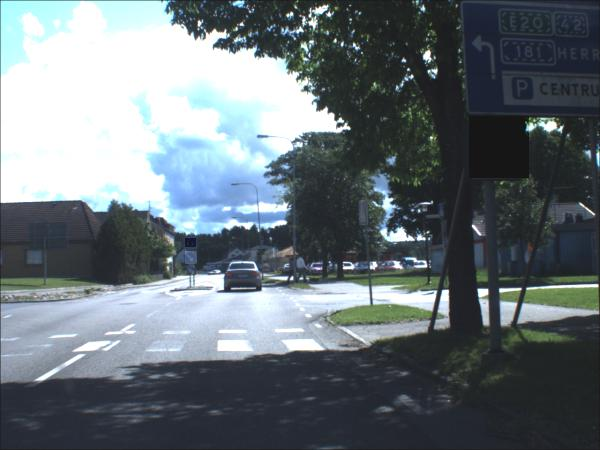PASS_RIGHT_SIDE: (186, 252, 199, 266)
PEDESTRIAN_CROSSING: (470, 117, 531, 180), (360, 201, 370, 227), (186, 239, 198, 249)
PRIORITY_ROAD: (259, 250, 267, 257)
